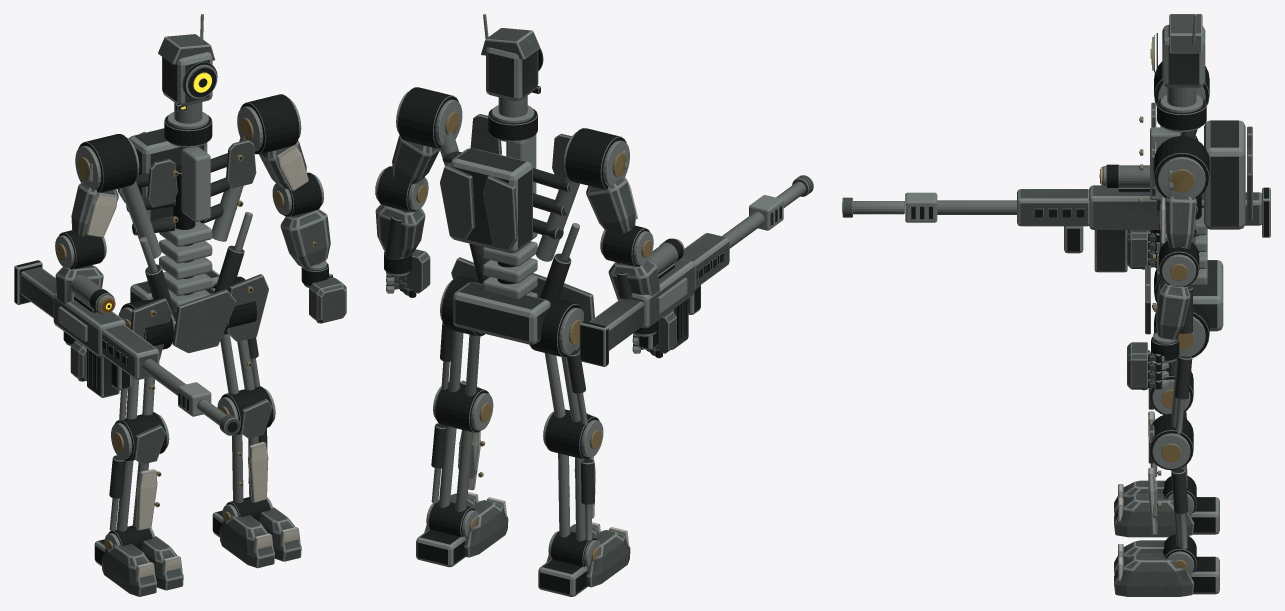
Rendered from ranged-t3-specter.glb.
The picture shows the model from 3 angles, left to right: view 1: azimuth 30°, elevation 25°; view 2: azimuth 150°, elevation 25°; view 3: azimuth 270°, elevation 25°; orthographic projection. The views are drawn at different scales.
Parts seen in each view (by area): view 1: chest__metal, pelvis__metal, weaponR__metal, pelvis__clay, weaponR__clay, ankleL__clay, ankleR__clay, kneeR__metal, head__metal, shoulderR__metal, shoulderL__metal, chest__clay (+17 smaller); view 2: pelvis__metal, chest__metal, weaponR__metal, chest__clay, kneeL__metal, weaponR__clay, kneeR__metal, shoulderR__metal, shoulderL__metal, head__metal, ankleL__metal, ankleR__metal (+14 smaller); view 3: weaponR__metal, chest__metal, weaponR__clay, pelvis__metal, ankleL__clay, kneeL__metal, shoulderL__metal, ankleR__clay, head__metal, elbowL__metal, ankleL__metal, shoulderL__clay (+11 smaller).
Part boxes in pixels (x1,y1,x2,y2): chest__metal: (120, 111, 245, 258); pelvis__metal: (118, 165, 257, 349); weaponR__metal: (14, 260, 237, 432); pelvis__clay: (130, 274, 268, 360); weaponR__clay: (20, 267, 240, 435); ankleL__clay: (219, 507, 301, 568); ankleR__clay: (101, 536, 183, 596); kneeR__metal: (109, 412, 169, 531); head__metal: (162, 14, 217, 123); shoulderR__metal: (72, 134, 139, 230); shoulderL__metal: (237, 94, 301, 154); chest__clay: (117, 132, 256, 207); pelvis__metal: (440, 223, 583, 357); chest__metal: (440, 105, 579, 261); weaponR__metal: (579, 181, 806, 366); chest__clay: (440, 114, 571, 250); kneeL__metal: (431, 382, 493, 511); weaponR__clay: (589, 175, 813, 350); kneeR__metal: (543, 409, 603, 541); shoulderR__metal: (563, 128, 631, 230); shoulderL__metal: (396, 87, 462, 149); head__metal: (483, 14, 543, 117); ankleL__metal: (416, 500, 478, 567); ankleR__metal: (538, 531, 600, 596); weaponR__metal: (842, 164, 1270, 272); chest__metal: (1139, 95, 1245, 244); weaponR__clay: (842, 185, 1261, 229); pelvis__metal: (1152, 196, 1223, 359); ankleL__clay: (1114, 540, 1194, 596); kneeL__metal: (1149, 413, 1193, 549); shoulderL__metal: (1154, 136, 1209, 247); ankleR__clay: (1114, 480, 1194, 537); head__metal: (1150, 14, 1205, 107); elbowL__metal: (1153, 241, 1199, 334); ankleL__metal: (1163, 534, 1219, 594); shoulderL__clay: (1160, 196, 1196, 248).
Bounding box in the file's own units: 2.33 × 4.4 × 3.09.
12 materials, 10 textured.
